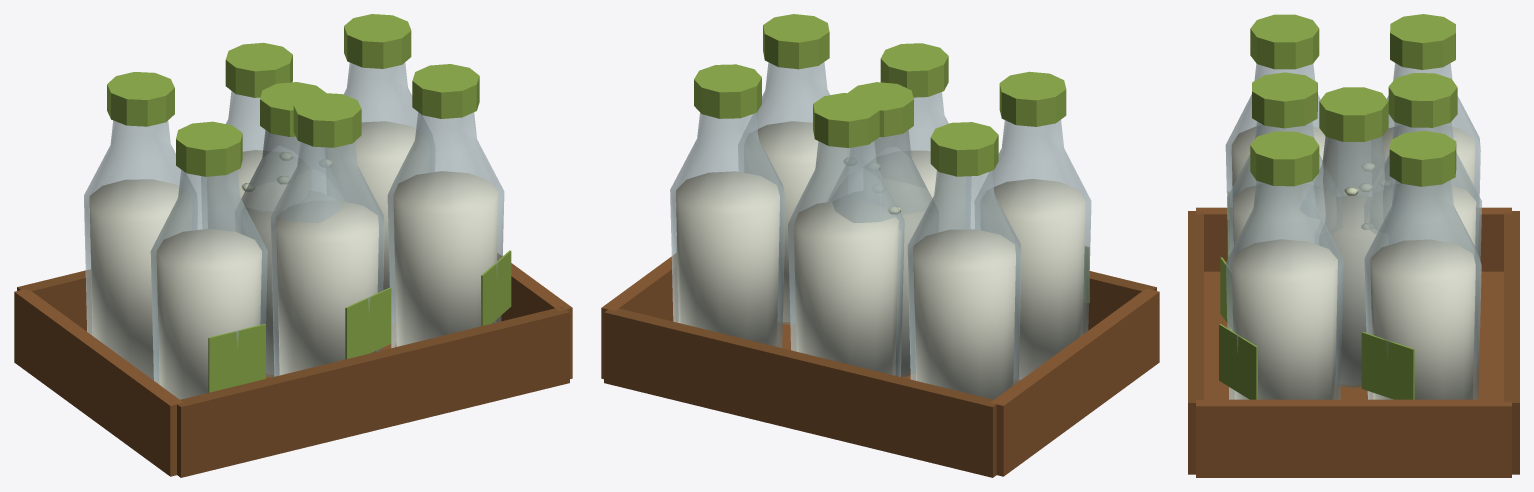
File: Proc_SoyMilk.fbx
3 renders of one model, left to right at view 1: azimuth 30°, elevation 25°; view 2: azimuth 150°, elevation 25°; view 3: azimuth 270°, elevation 25°, orthographic.
Visible parts, largest first — view 1: Proc_SoyMilk__Stack, Proc_SoyMilk, Proc_SoyMilk__Rotten; view 2: Proc_SoyMilk__Stack, Proc_SoyMilk, Proc_SoyMilk__Rotten; view 3: Proc_SoyMilk__Stack, Proc_SoyMilk, Proc_SoyMilk__Rotten.
Boxes of the visible parts, left/top/right/bottom form: Proc_SoyMilk__Stack: left=14, top=14, right=572, bottom=477; Proc_SoyMilk: left=240, top=82, right=344, bottom=377; Proc_SoyMilk__Rotten: left=241, top=130, right=332, bottom=376; Proc_SoyMilk__Stack: left=601, top=14, right=1159, bottom=477; Proc_SoyMilk: left=829, top=82, right=933, bottom=376; Proc_SoyMilk__Rotten: left=844, top=130, right=931, bottom=376; Proc_SoyMilk__Stack: left=1188, top=14, right=1519, bottom=477; Proc_SoyMilk: left=1313, top=87, right=1394, bottom=387; Proc_SoyMilk__Rotten: left=1322, top=136, right=1392, bottom=387.
Size of the model in its own units: 0.238 by 0.163 by 0.168.
